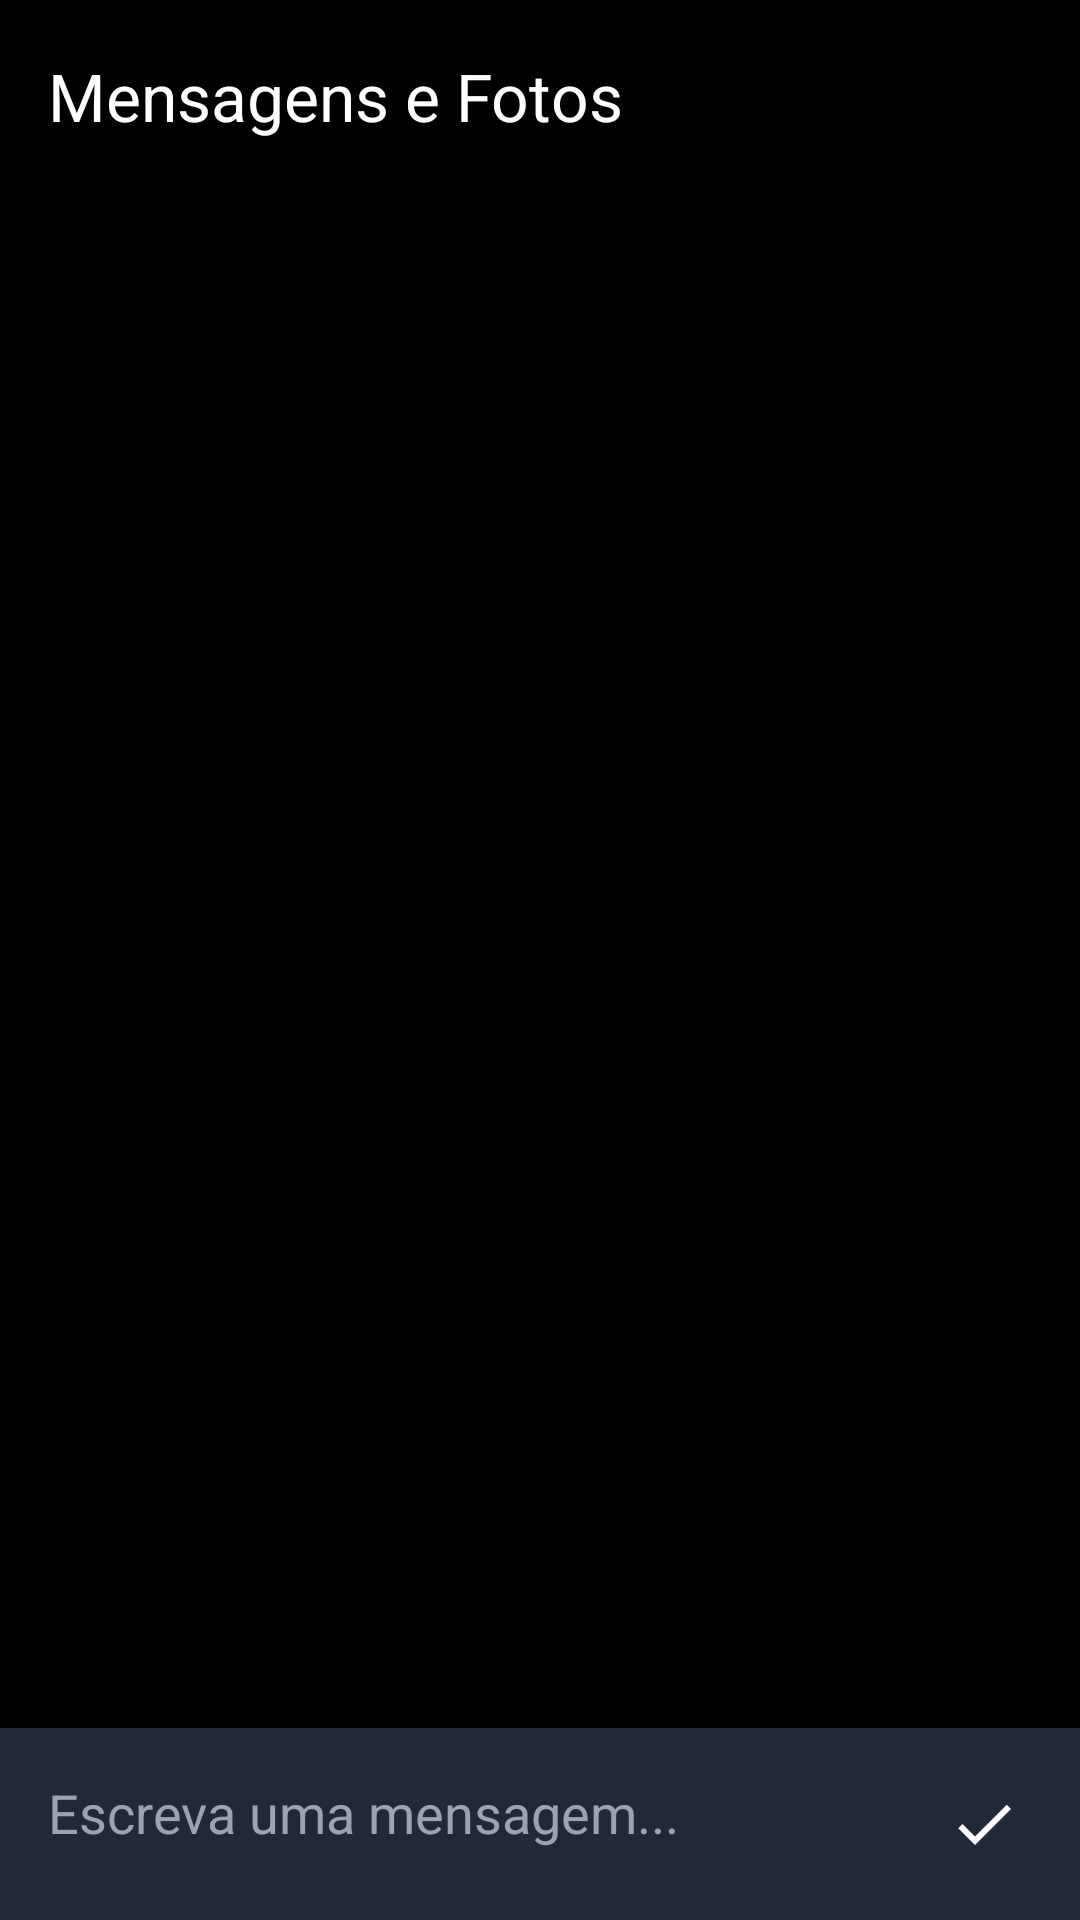

Icon bounding boxes for this 1080 × 1920 phone screenshot, format (x1, y1, x2, y2):
check: (958, 1805, 1011, 1845)
